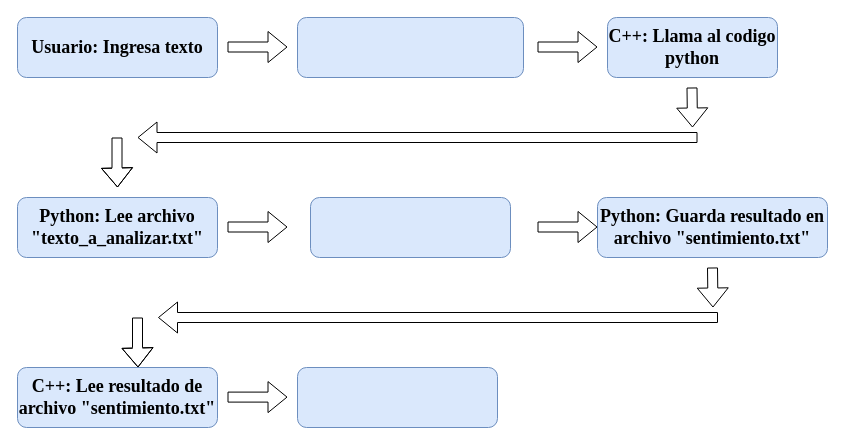
The diagram is 845 pixels wide and 445 high, and some of its shapes have lost their labels. The shapes that lost their labels are listed below. From the top down, each one's centre as x and y in pixels, then its label:
point (410, 47): C++: Guarda en archivo "texto_a_analizar.txt"
point (410, 227): Python: Hace consulta a IBM NLU
point (397, 397): C++: Muestra una carita de acorde al resultado
